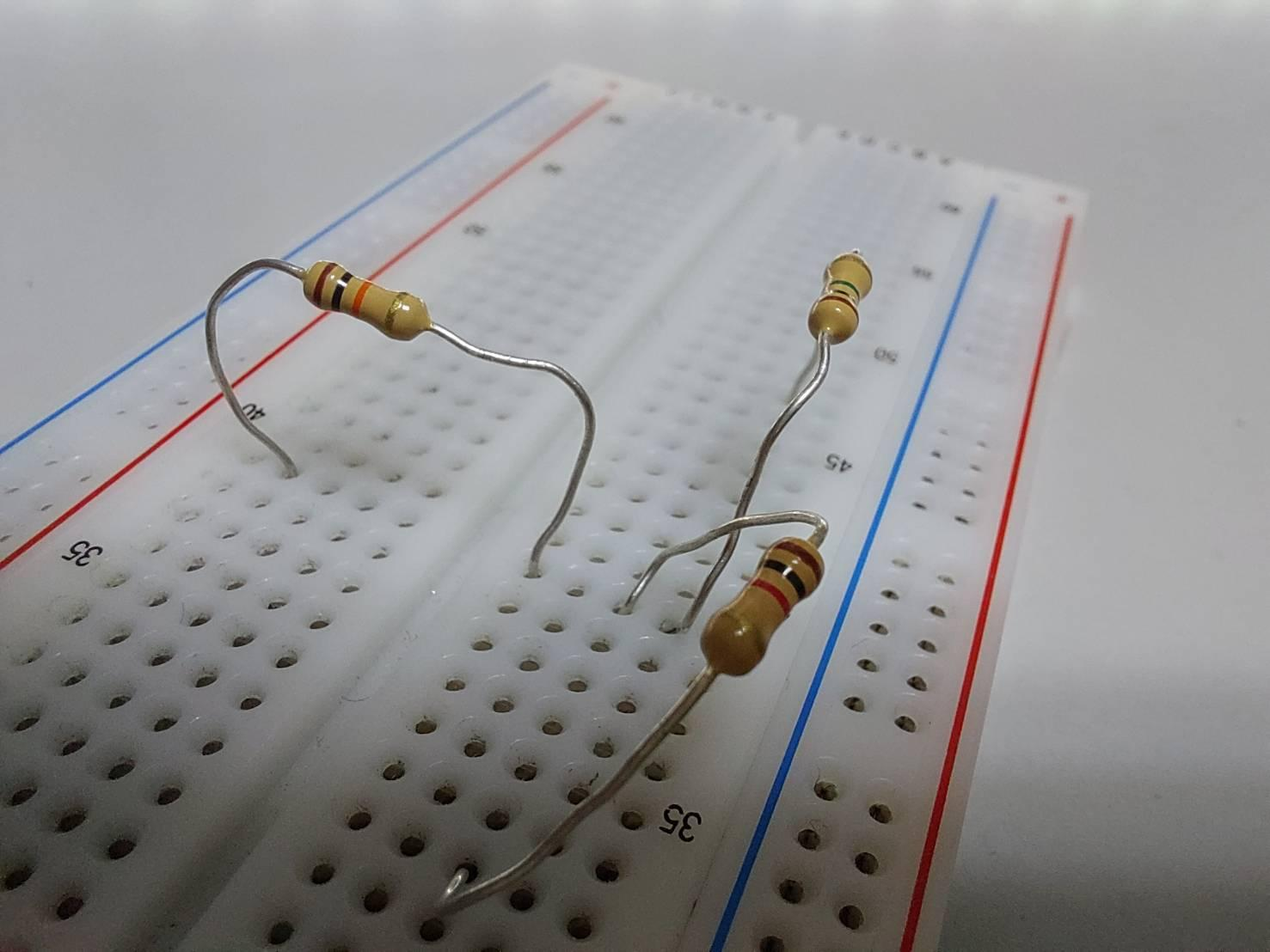resistor: (684, 516, 840, 689), (296, 252, 436, 347), (805, 247, 875, 345)
